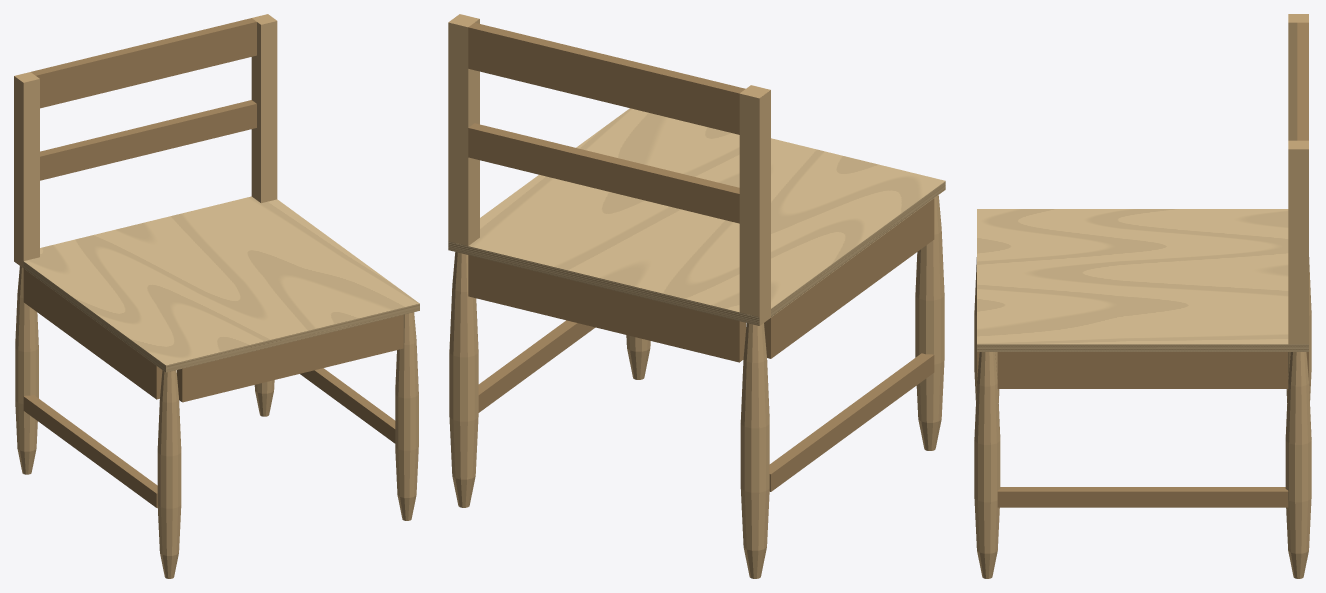
Rendered from SAB-ACC-std.glb.
The picture shows the model from 3 angles, left to right: view 1: azimuth 30°, elevation 25°; view 2: azimuth 150°, elevation 25°; view 3: azimuth 270°, elevation 25°; orthographic projection. The views are drawn at different scales.
Parts seen in each view (by area): view 1: seat:sheet:eyJtIjoicGx5Iiwic2lkZSI6ImZhY2UiLCJzZWVkIjo2LCJ2Z, back-top:pbr, leg-bl:pbr, rail-f:pbr, back-mid:pbr, leg-br:pbr, rail-l:pbr, leg-fl:pbr, leg-fr:pbr, stretcher-l:pbr, stretcher-r:pbr, seat:sheet:eyJtIjoicGx5Iiwic2lkZSI6ImVkZ2UtZW5kIiwic2VlZCI6N (+1 smaller); view 2: seat:sheet:eyJtIjoicGx5Iiwic2lkZSI6ImZhY2UiLCJzZWVkIjo2LCJ2Z, leg-bl:pbr, back-top:pbr, leg-br:pbr, rail-b:pbr, back-mid:pbr, rail-l:pbr, leg-fl:pbr, stretcher-l:pbr, stretcher-r:pbr, seat:sheet:eyJtIjoicGx5Iiwic2lkZSI6ImVkZ2UtZW5kIiwic2VlZCI6N, seat:sheet:eyJtIjoicGx5Iiwic2lkZSI6ImVkZ2UtbG9uZyIsInNlZWQiO (+1 smaller); view 3: seat:sheet:eyJtIjoicGx5Iiwic2lkZSI6ImZhY2UiLCJzZWVkIjo2LCJ2Z, rail-r:pbr, leg-br:pbr, stretcher-r:pbr, leg-fr:pbr, seat:sheet:eyJtIjoicGx5Iiwic2lkZSI6ImVkZ2UtbG9uZyIsInNlZWQiO, leg-bl:pbr, back-top:pbr.
Boxes of the visible parts, x1,y1,x2,y2 form: seat:sheet:eyJtIjoicGx5Iiwic2lkZSI6ImZhY2UiLCJzZWVkIjo2LCJ2Z: [24, 196, 419, 365]; back-top:pbr: [31, 18, 256, 108]; leg-bl:pbr: [14, 72, 39, 474]; rail-f:pbr: [177, 315, 403, 402]; back-mid:pbr: [40, 100, 256, 180]; leg-br:pbr: [251, 14, 277, 416]; rail-l:pbr: [23, 269, 162, 399]; leg-fl:pbr: [157, 370, 181, 578]; leg-fr:pbr: [395, 312, 418, 520]; stretcher-l:pbr: [23, 395, 157, 507]; stretcher-r:pbr: [300, 368, 395, 443]; seat:sheet:eyJtIjoicGx5Iiwic2lkZSI6ImVkZ2UtZW5kIiwic2VlZCI6N: [166, 303, 419, 372]; seat:sheet:eyJtIjoicGx5Iiwic2lkZSI6ImZhY2UiLCJzZWVkIjo2LCJ2Z: [468, 108, 945, 312]; leg-bl:pbr: [739, 85, 770, 578]; back-top:pbr: [468, 22, 745, 134]; leg-br:pbr: [448, 14, 479, 507]; rail-b:pbr: [468, 255, 745, 362]; back-mid:pbr: [468, 123, 739, 223]; rail-l:pbr: [764, 198, 934, 358]; leg-fl:pbr: [915, 195, 944, 450]; stretcher-l:pbr: [769, 353, 934, 491]; stretcher-r:pbr: [478, 320, 595, 412]; seat:sheet:eyJtIjoicGx5Iiwic2lkZSI6ImVkZ2UtZW5kIiwic2VlZCI6N: [448, 241, 759, 325]; seat:sheet:eyJtIjoicGx5Iiwic2lkZSI6ImVkZ2UtbG9uZyIsInNlZWQiO: [771, 181, 945, 317]; seat:sheet:eyJtIjoicGx5Iiwic2lkZSI6ImZhY2UiLCJzZWVkIjo2LCJ2Z: [977, 209, 1288, 344]; rail-r:pbr: [997, 352, 1288, 388]; leg-br:pbr: [1285, 140, 1311, 578]; stretcher-r:pbr: [997, 487, 1288, 507]; leg-fr:pbr: [974, 352, 1000, 578]; seat:sheet:eyJtIjoicGx5Iiwic2lkZSI6ImVkZ2UtbG9uZyIsInNlZWQiO: [977, 344, 1308, 351]; leg-bl:pbr: [1286, 14, 1311, 402]; back-top:pbr: [1297, 22, 1308, 140].
Size of the model in its own units: 0.56 by 0.82 by 0.58.
Materials: 15 (3 with a texture image).
